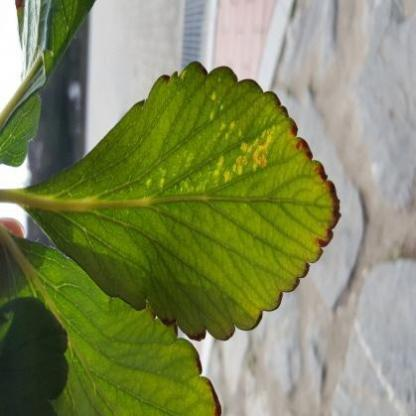Strawberry_Angular_LeafSpot: (138, 70, 288, 202)
